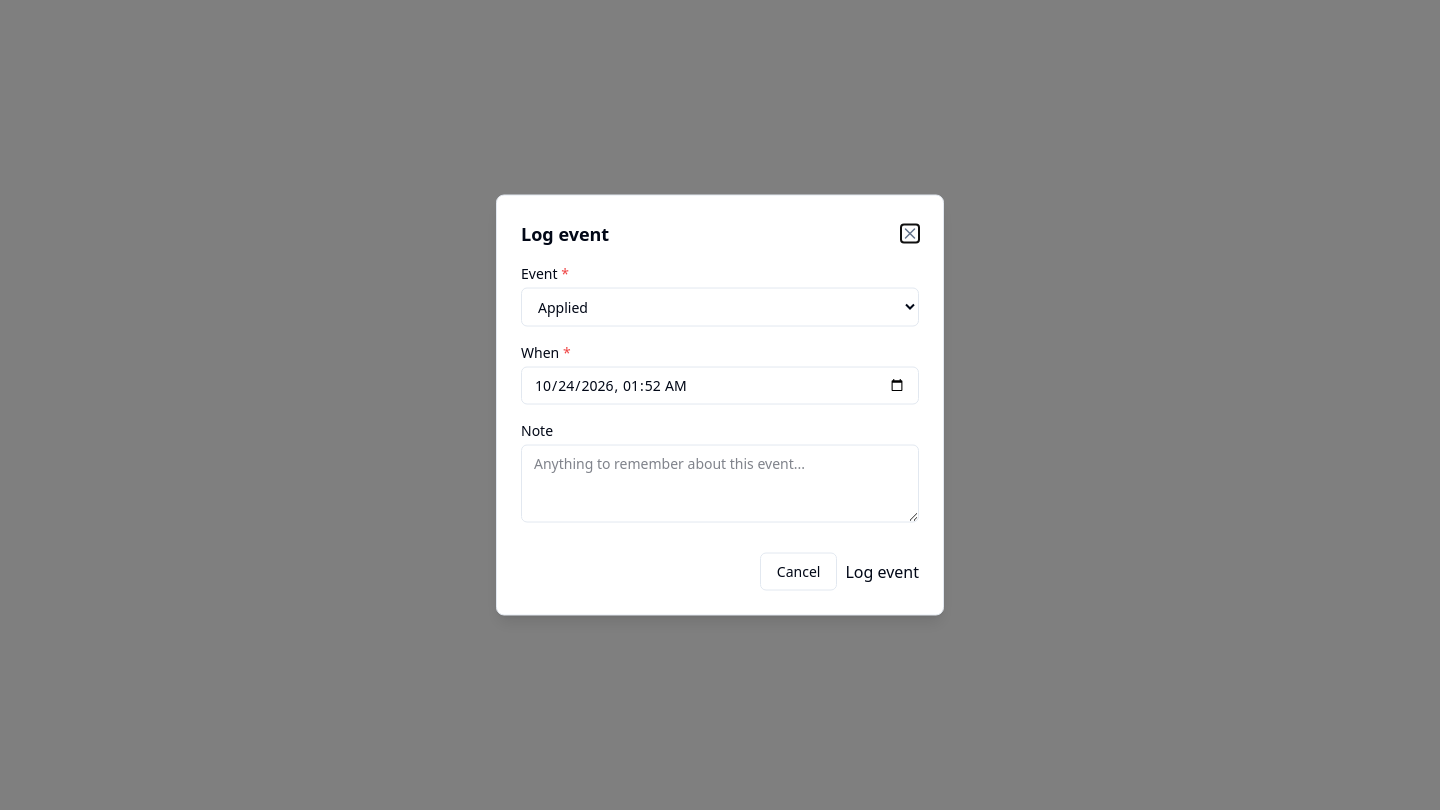
Test: LogEventDialog — interview_details › reveals interview fields when the operator picks interview_scheduled
Select "Interview scheduled" in the dropdown labelled "Event *" at [720, 307], box [521,288,919,326]
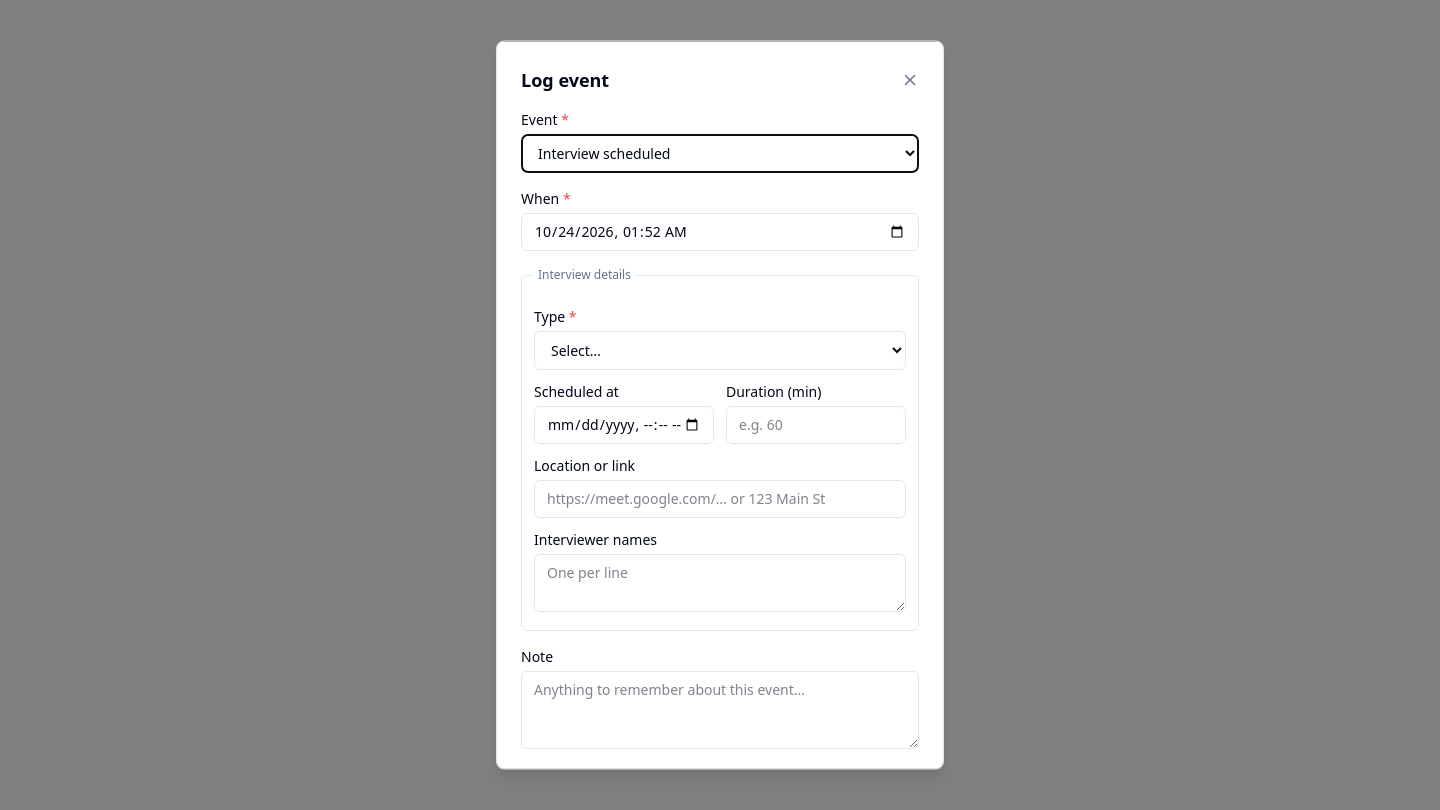
Expected: the text "Interview details" is shown, [534,266,635,282]
Expected: the dropdown labelled "Type *" is shown, [534,330,906,370]
